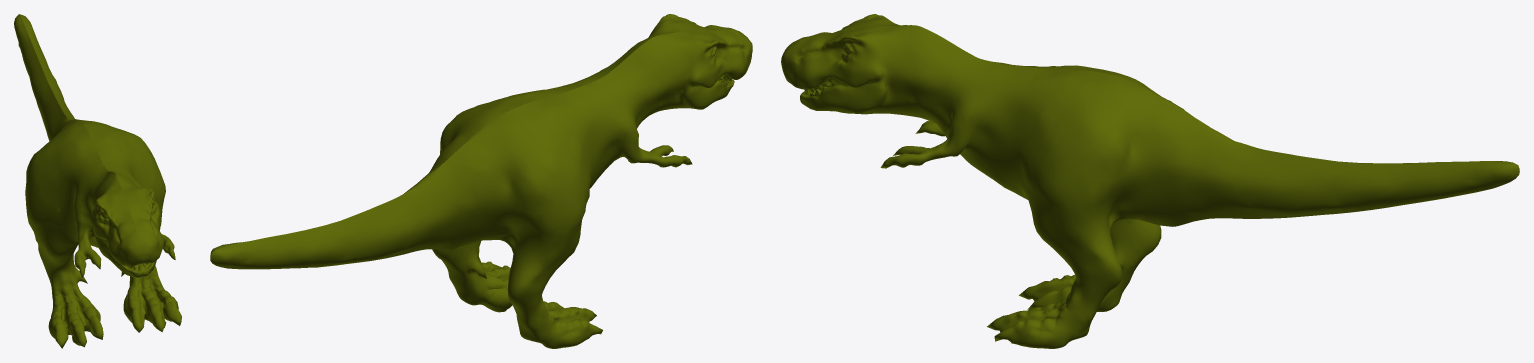
File: Rex_verde.glb
The picture shows the model from 3 angles, left to right: view 1: azimuth 30°, elevation 25°; view 2: azimuth 150°, elevation 25°; view 3: azimuth 270°, elevation 25°; orthographic projection. The views are drawn at different scales.
Visible parts, largest first — view 1: trex texturizado; view 2: trex texturizado; view 3: trex texturizado.
Part boxes in pixels (x1,y1,x2,y2): trex texturizado: (14,14,181,348); trex texturizado: (210,14,752,348); trex texturizado: (781,14,1519,348).
Bounding box in the file's own units: 31.77 × 35.77 × 87.42.
